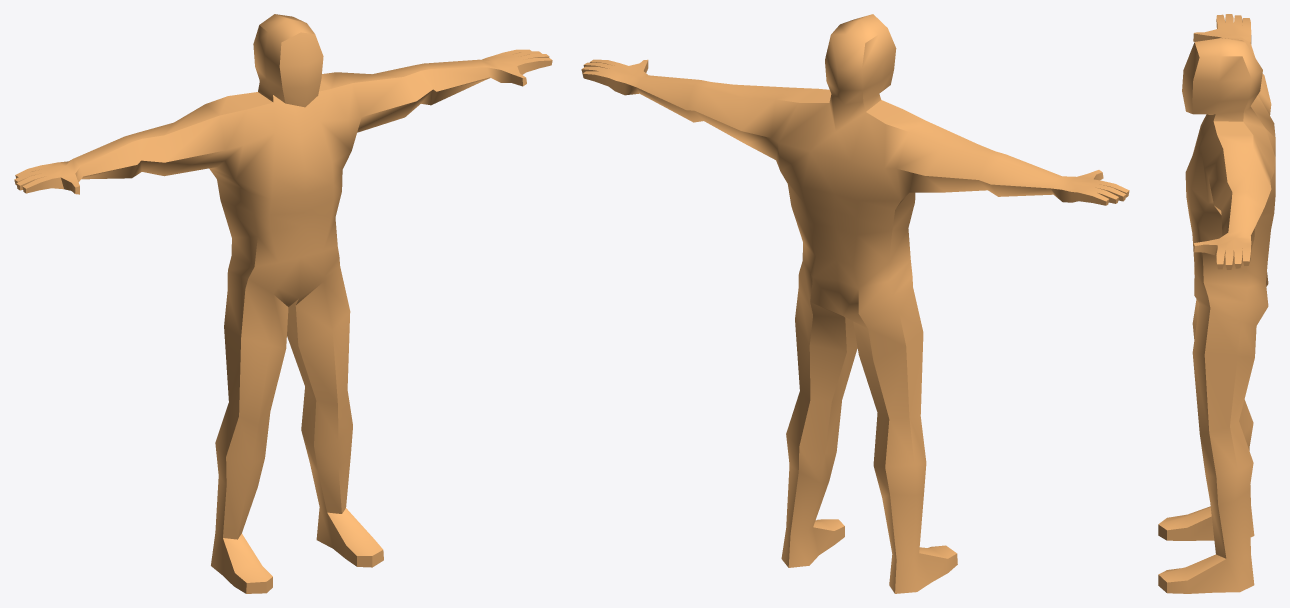
File: player_wip.obj
The picture shows the model from 3 angles, left to right: view 1: azimuth 30°, elevation 25°; view 2: azimuth 150°, elevation 25°; view 3: azimuth 270°, elevation 25°; orthographic projection. The views are drawn at different scales.
Visible parts, largest first — view 1: HumanMale; view 2: HumanMale; view 3: HumanMale.
Boxes of the visible parts, bbox=[...] form: HumanMale: bbox=[14, 14, 552, 593]; HumanMale: bbox=[581, 14, 1129, 593]; HumanMale: bbox=[1158, 14, 1275, 593].
Bounding box in the file's own units: 1.93 × 1.87 × 0.3806.
